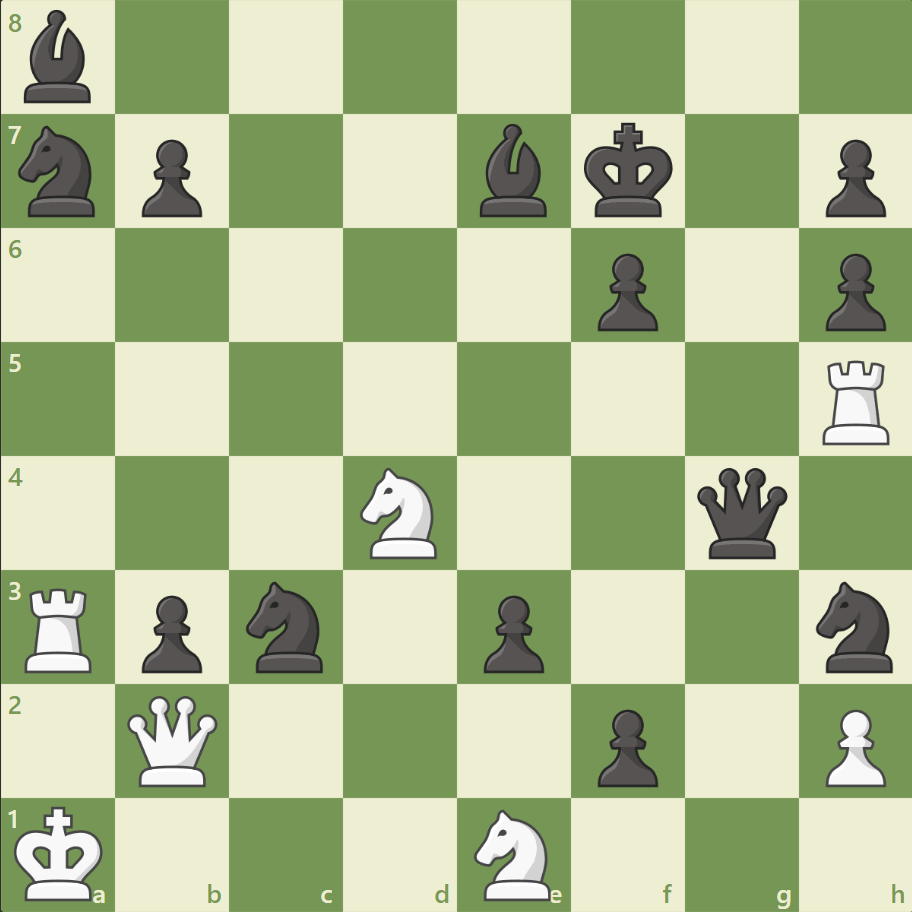K: (11, 798, 111, 906)
N: (351, 461, 449, 564), (465, 802, 562, 904)
P: (815, 700, 889, 791)
Q: (124, 690, 223, 789)
R: (814, 352, 897, 449), (19, 579, 102, 676)
b: (17, 6, 101, 109), (471, 120, 555, 222)
k: (579, 117, 679, 225)
n: (11, 121, 108, 223), (238, 575, 335, 677), (806, 575, 903, 677)
p: (133, 132, 208, 223), (133, 586, 208, 677), (474, 586, 549, 677), (815, 132, 889, 223), (588, 246, 662, 337), (815, 246, 889, 337), (588, 700, 662, 791)
q: (691, 463, 790, 562)
